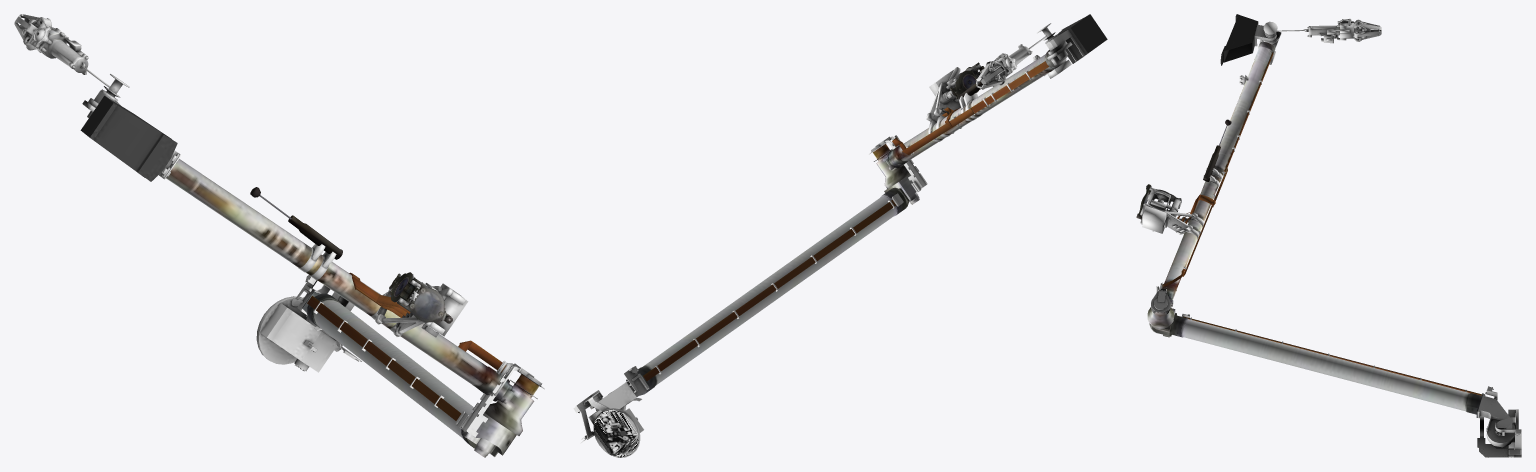
The model's file is insight-arm-arm.glb.
The picture shows the model from 3 angles, left to right: view 1: azimuth 30°, elevation 25°; view 2: azimuth 150°, elevation 25°; view 3: azimuth 270°, elevation 25°; orthographic projection. The views are drawn at different scales.
Parts seen in each view (by area): view 1: arm; view 2: arm; view 3: arm.
Part boxes in pixels (box(x1,y1,x2,y2)): arm: box(14, 14, 544, 457); arm: box(573, 14, 1107, 457); arm: box(1136, 14, 1521, 457).
Bounding box in the file's own units: 1.73 × 1.81 × 1.97.
Materials: 1 (1 with a texture image).
